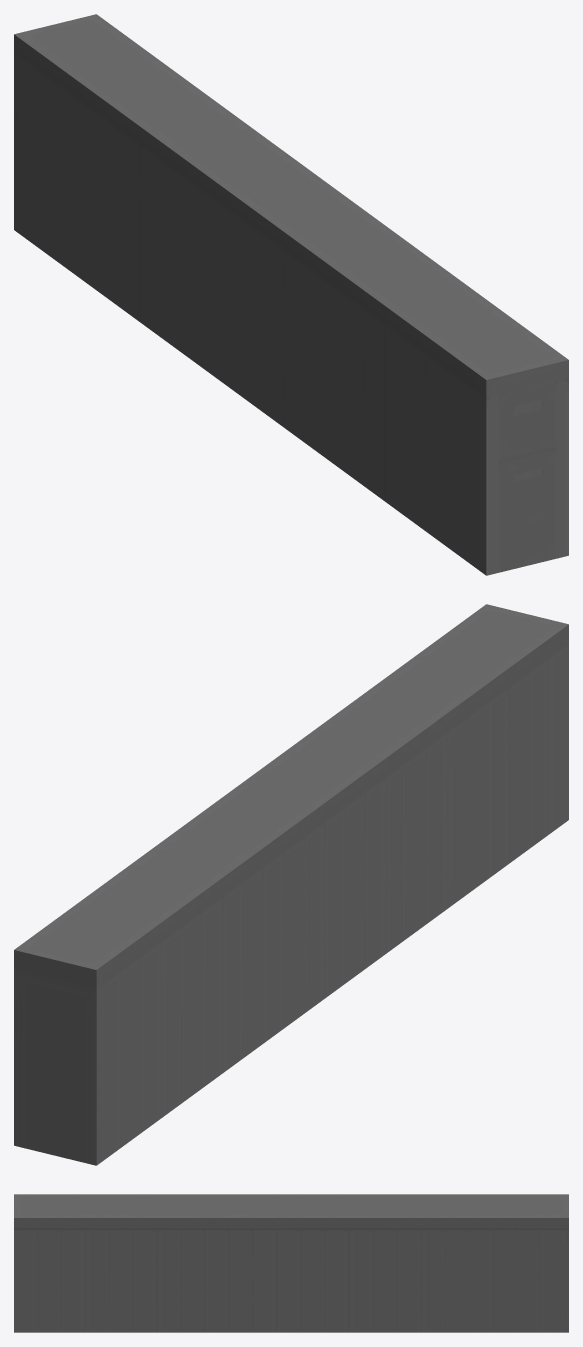
Rendered from Pfb_Shop_Counter.fbx.
3 renders of one model, top to bottom at view 1: azimuth 30°, elevation 25°; view 2: azimuth 150°, elevation 25°; view 3: azimuth 270°, elevation 25°, orthographic. The views are drawn at different scales.
Visible parts, largest first — view 1: Mat_Shop_Counter_01_JLAB_Grey; view 2: Mat_Shop_Counter_01_JLAB_Grey; view 3: Mat_Shop_Counter_01_JLAB_Grey.
Boxes of the visible parts, <box> form: Mat_Shop_Counter_01_JLAB_Grey: <box>14,14,568,575</box>; Mat_Shop_Counter_01_JLAB_Grey: <box>14,604,568,1165</box>; Mat_Shop_Counter_01_JLAB_Grey: <box>14,1194,568,1332</box>.
Bounding box in the file's own units: 0.357 × 0.8087 × 3.54.
Materials: 1 (1 with a texture image).
